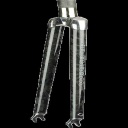fork: (32, 5, 90, 126)
